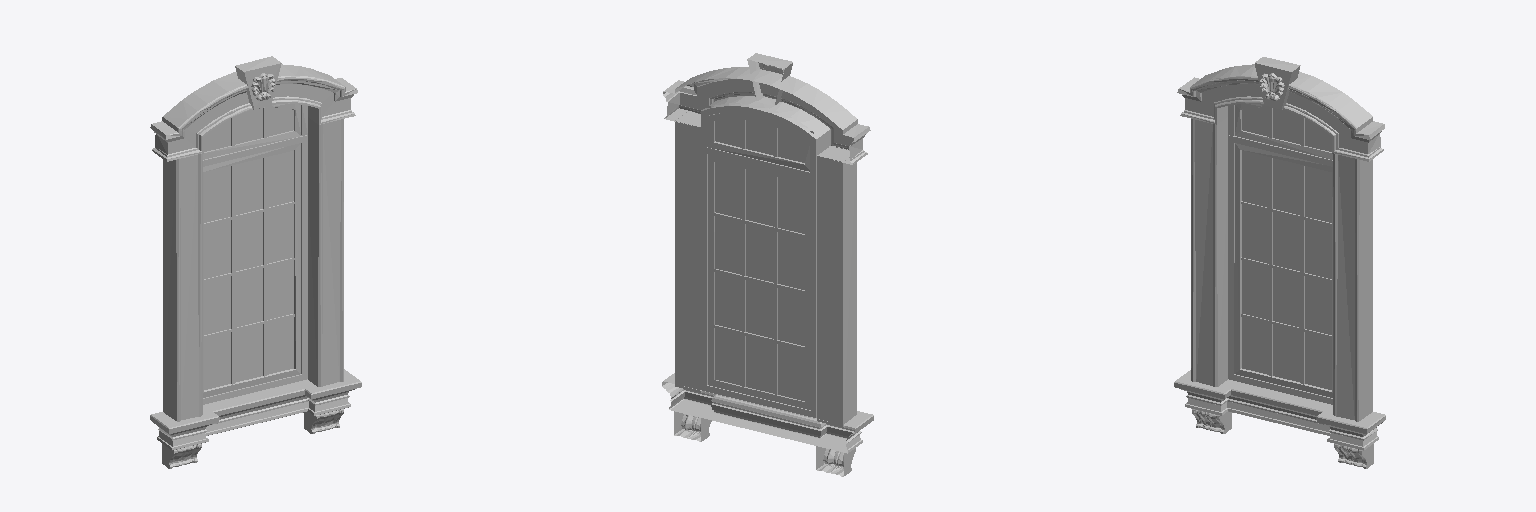
File: 039_Window_low_poly.obj
3 views of the same model, side by side, from view 1: azimuth 30°, elevation 25°; view 2: azimuth 150°, elevation 25°; view 3: azimuth 330°, elevation 25° (orthographic).
Visible parts, largest first — view 1: window; view 2: window; view 3: window.
Part boxes in pixels (left/top/right/bottom): window: left=150, top=56, right=361, bottom=468; window: left=662, top=53, right=873, bottom=476; window: left=1174, top=57, right=1385, bottom=468.
Size of the model in its own units: 1457 by 2792 by 250.